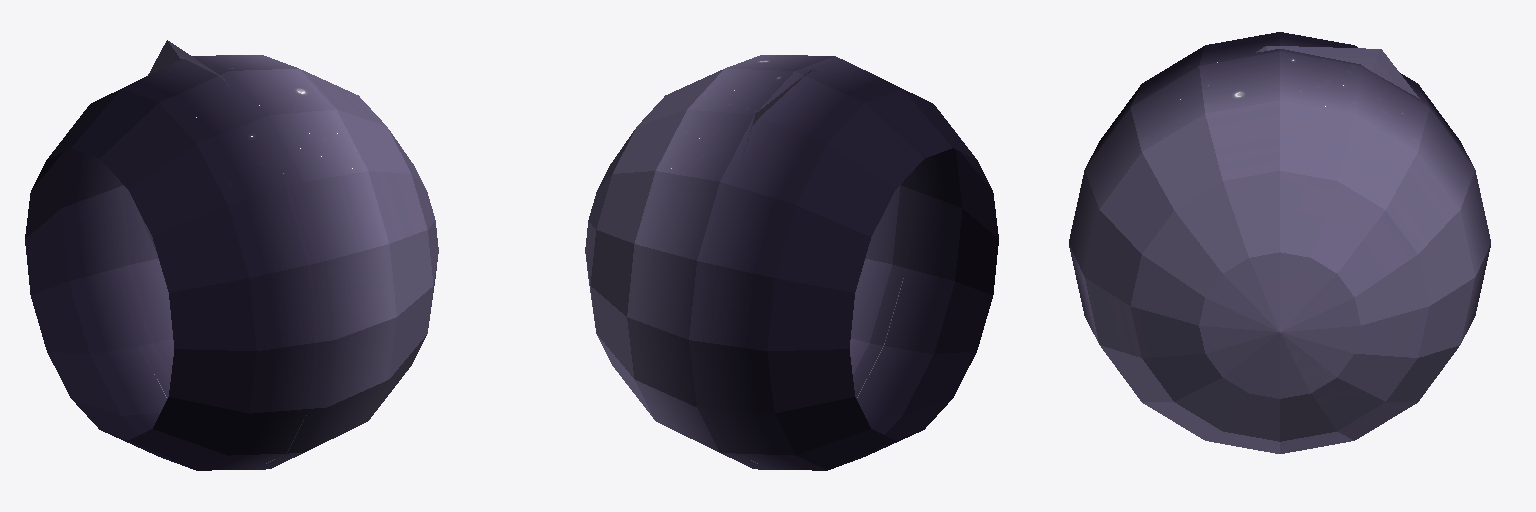
3 views of the same model, side by side, from view 1: azimuth 30°, elevation 25°; view 2: azimuth 150°, elevation 25°; view 3: azimuth 270°, elevation 25° (orthographic).
Bounding box in the file's own units: 555 × 651 × 650.
Materials: 2 (1 with a texture image).